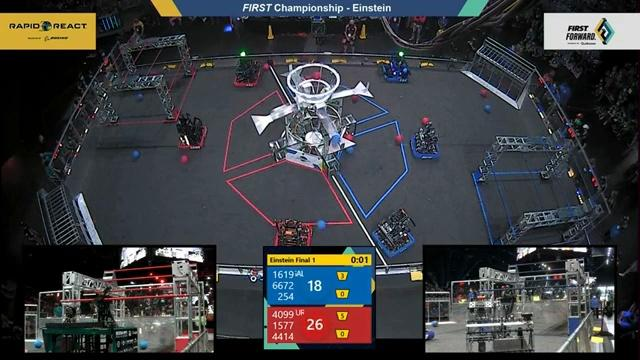robot: (370, 206, 418, 260), (169, 110, 210, 157), (405, 119, 445, 163), (374, 45, 413, 87), (269, 215, 317, 247), (229, 52, 266, 90), (426, 331, 435, 343)
